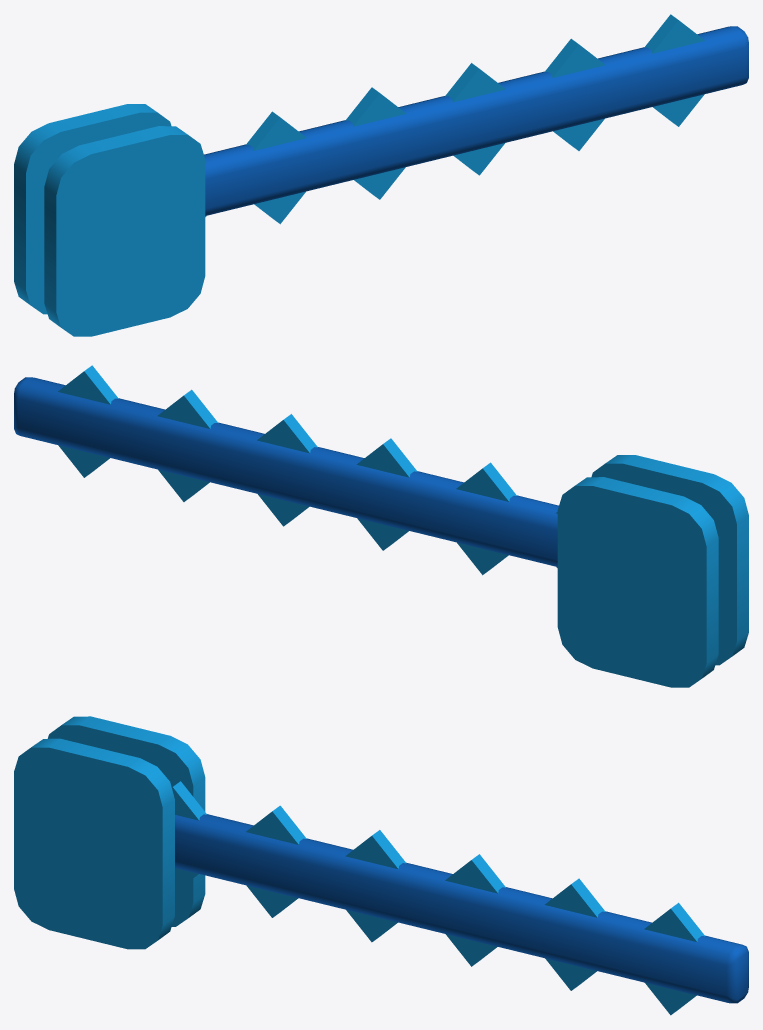
File: gate_blue.fbx
3 renders of one model, top to bottom at view 1: azimuth 30°, elevation 25°; view 2: azimuth 150°, elevation 25°; view 3: azimuth 330°, elevation 25°, orthographic.
Parts seen in each view (by area): view 1: gate_blue_serve, gate_blue_main; view 2: gate_blue_serve, gate_blue_main; view 3: gate_blue_serve, gate_blue_main.
Part boxes in pixels (x1,y1,x2,y2): gate_blue_serve: (204,14,748,224); gate_blue_main: (14,104,205,336); gate_blue_serve: (14,365,558,575); gate_blue_main: (557,455,748,687); gate_blue_serve: (172,781,748,1015); gate_blue_main: (14,716,205,949).
Bounding box in the file's own units: 0.8241 × 0.203 × 0.0856.
